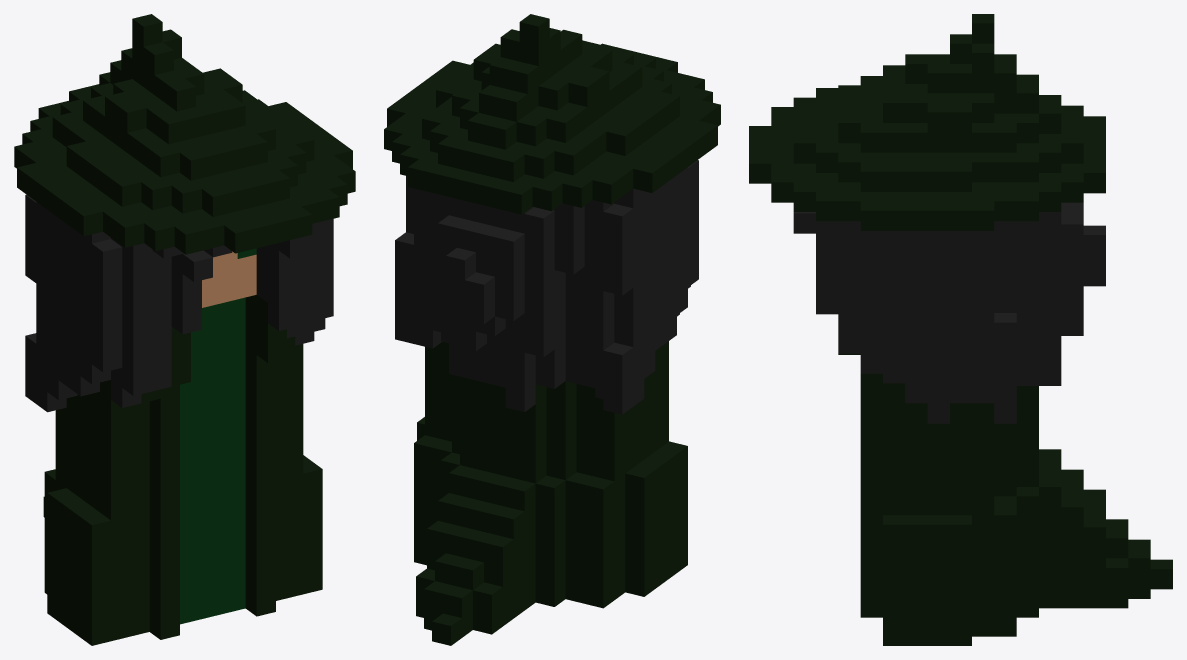
Rendered from Bruxa 03 - Idle-01.obj.
3 renders of one model, left to right at view 1: azimuth 30°, elevation 25°; view 2: azimuth 150°, elevation 25°; view 3: azimuth 270°, elevation 25°, orthographic.
Size of the model in its own units: 14 by 28 by 19.
Materials: 1 (1 with a texture image).
